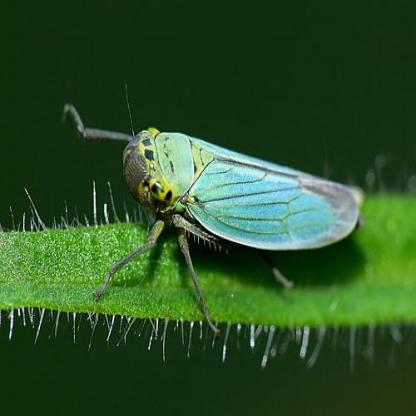Green-Leafhopper: (66, 108, 368, 327)
